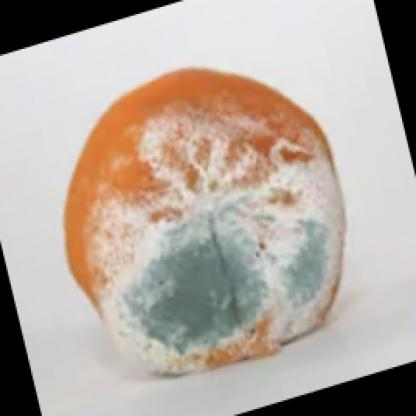rotten_orange: (46, 66, 347, 370)
